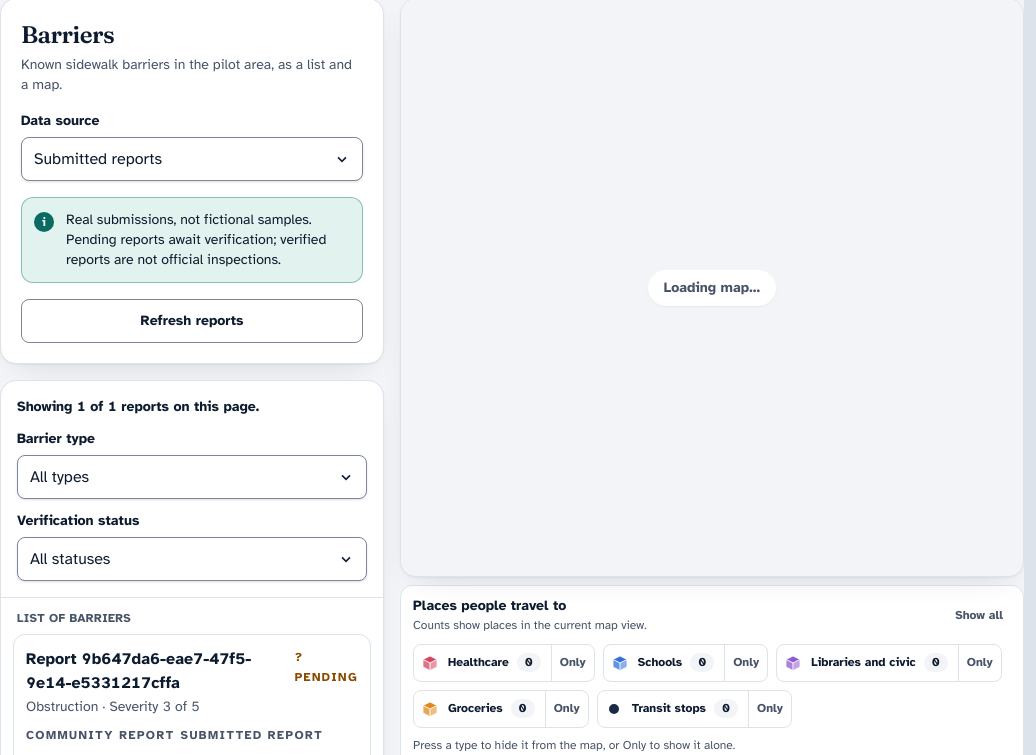
Test: refreshes on window focus and removes reports that no longer match the pending filter
The width and height of the screenshot is (1036, 755).
Later steps or results of the test are not shown.
Select "Pending" in the dropdown labelled "Verification status" at [192, 559], box x1=17 y1=537 x2=367 y2=581
(page scrolled)
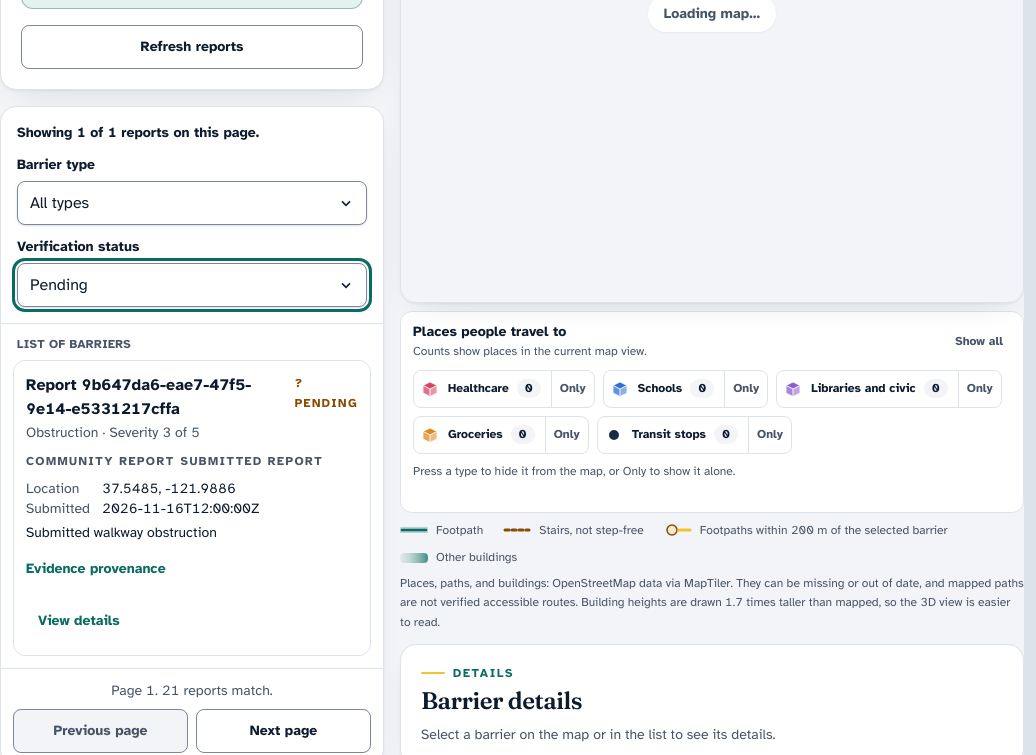
Click the button "View details" at [79, 621], box x1=26 y1=599 x2=132 y2=643
(page scrolled)
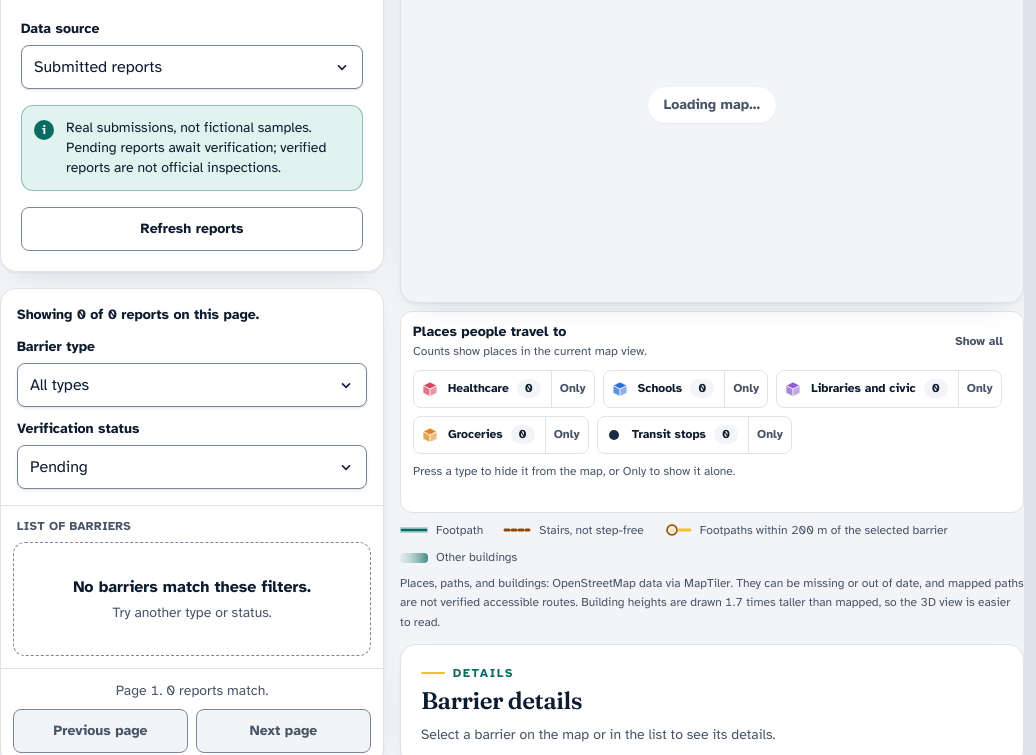
Expected: the text "Page 1. 0 reports match." is shown, x1=116 y1=682 x2=268 y2=699
